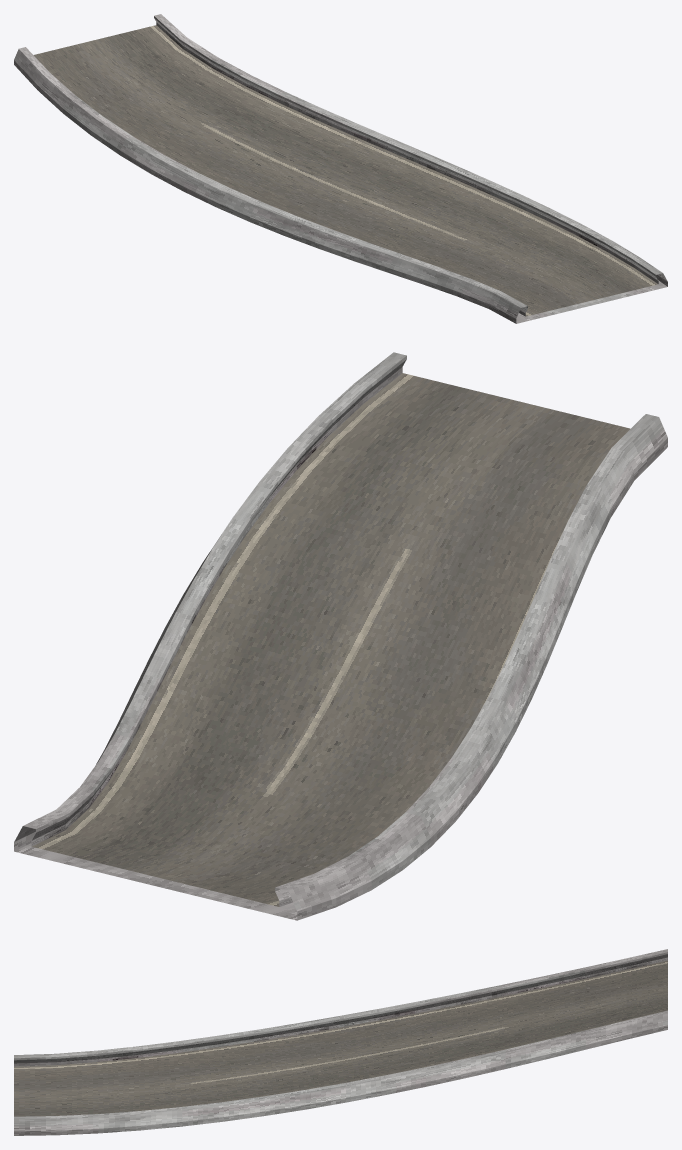
The model's file is road-Chicane-Flat-BiSlopeUp-Up1-Left1-Size4.glb.
The picture shows the model from 3 angles, top to bottom: view 1: azimuth 30°, elevation 25°; view 2: azimuth 150°, elevation 25°; view 3: azimuth 270°, elevation 25°; orthographic projection. The views are drawn at different scales.
Visible parts, largest first — view 1: road-Chicane-Flat-BiSlopeUp-Up1-Left1-Size4; view 2: road-Chicane-Flat-BiSlopeUp-Up1-Left1-Size4; view 3: road-Chicane-Flat-BiSlopeUp-Up1-Left1-Size4.
Part boxes in pixels (box(x1,y1,x2,y2)): road-Chicane-Flat-BiSlopeUp-Up1-Left1-Size4: box(14, 14, 667, 323); road-Chicane-Flat-BiSlopeUp-Up1-Left1-Size4: box(14, 352, 667, 920); road-Chicane-Flat-BiSlopeUp-Up1-Left1-Size4: box(14, 949, 667, 1135).
Bounding box in the file's own units: 2 × 0.373 × 4.
Materials: 2 (2 with a texture image).
